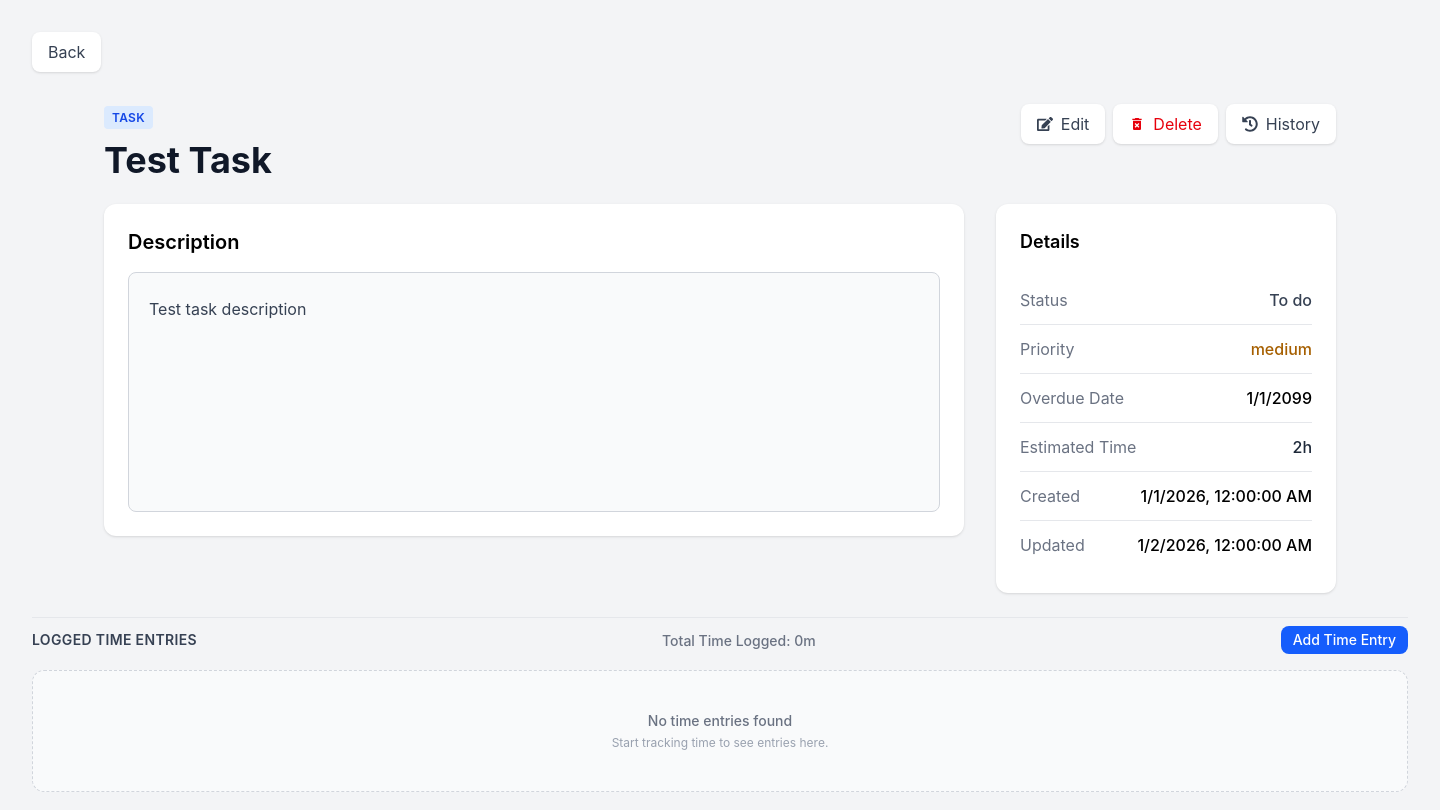
Test: TaskPage › edit task › should display the edit modal when clicking Edit
Expected: the heading "Test Task" is shown, left=104, top=140, right=272, bottom=180
Click the button "Edit": click(1063, 124) left=1021, top=104, right=1105, bottom=144
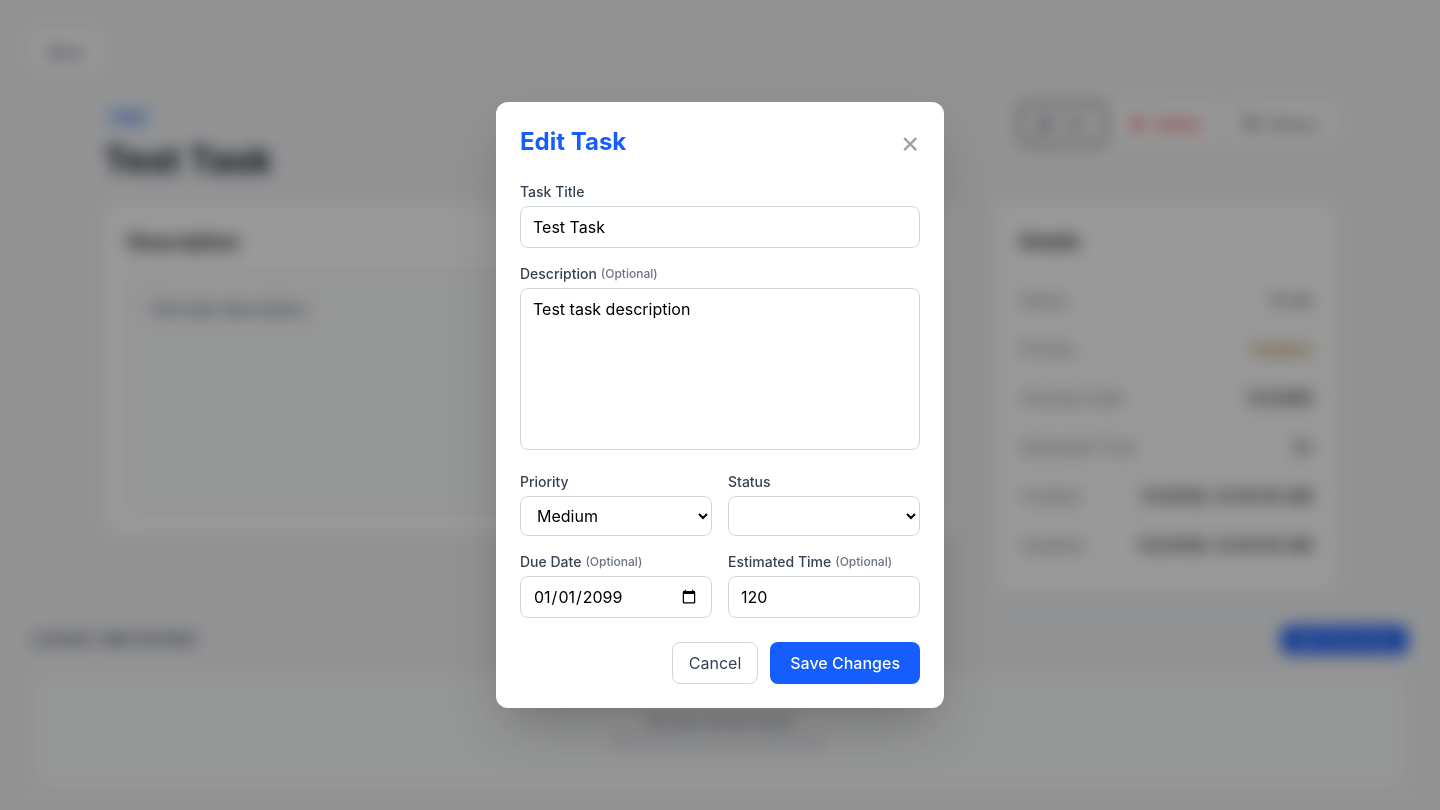
Result: the heading "Edit Task" is shown at left=520, top=126, right=626, bottom=158
